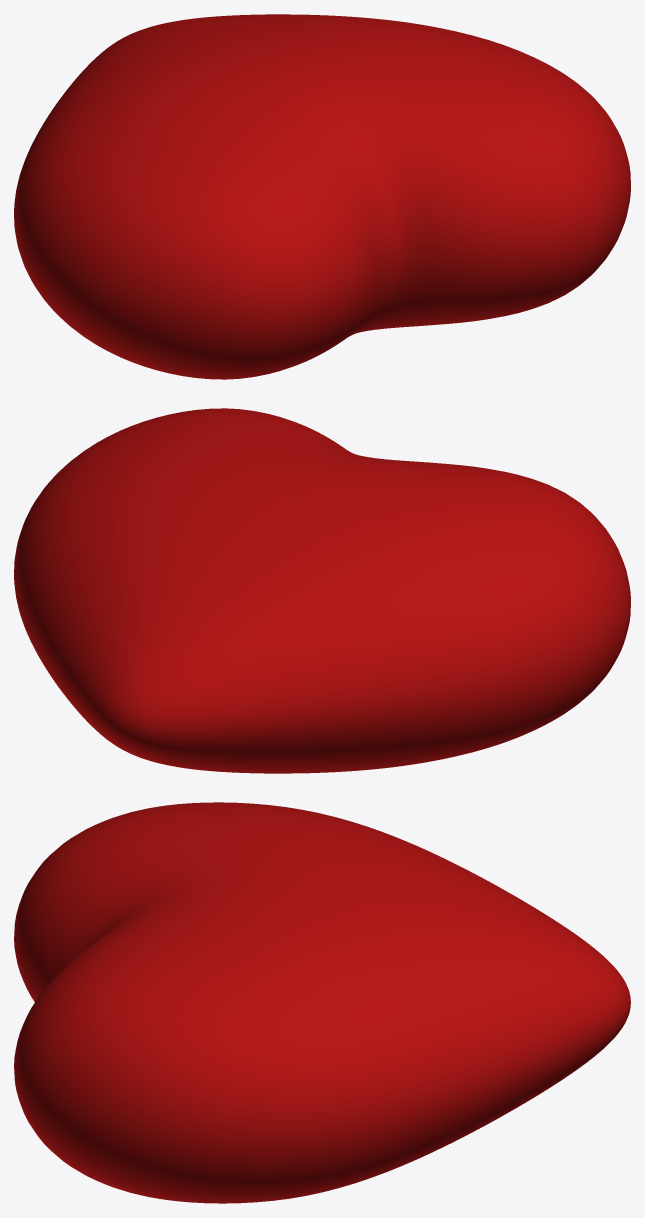
The model's file is planete1.obj.
3 renders of one model, top to bottom at view 1: azimuth 30°, elevation 25°; view 2: azimuth 150°, elevation 25°; view 3: azimuth 270°, elevation 25°, orthographic. The views are drawn at different scales.
Visible parts, largest first — view 1: heart_12190_Heart_v1_L3; view 2: heart_12190_Heart_v1_L3; view 3: heart_12190_Heart_v1_L3.
Boxes of the visible parts, box(x1,y1,x2,y2) form: heart_12190_Heart_v1_L3: box(14, 14, 630, 379); heart_12190_Heart_v1_L3: box(14, 408, 630, 773); heart_12190_Heart_v1_L3: box(14, 802, 630, 1203).
Size of the model in its own units: 21.25 by 9.14 by 19.91.
